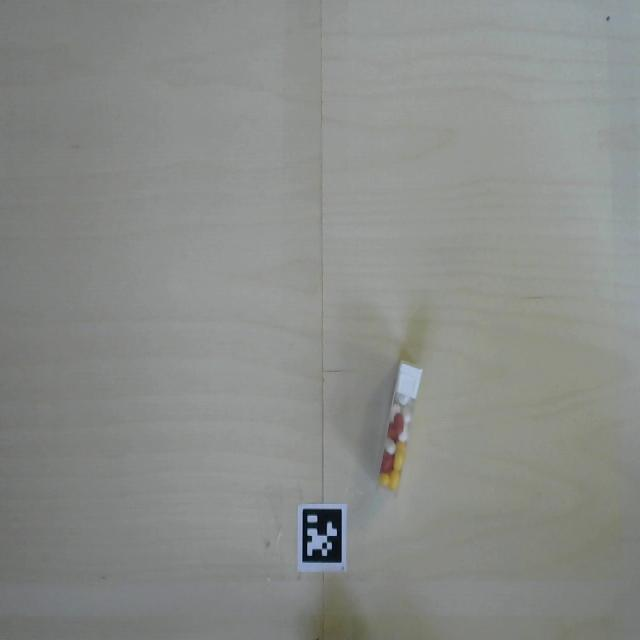tictac: (370, 359, 428, 508)
